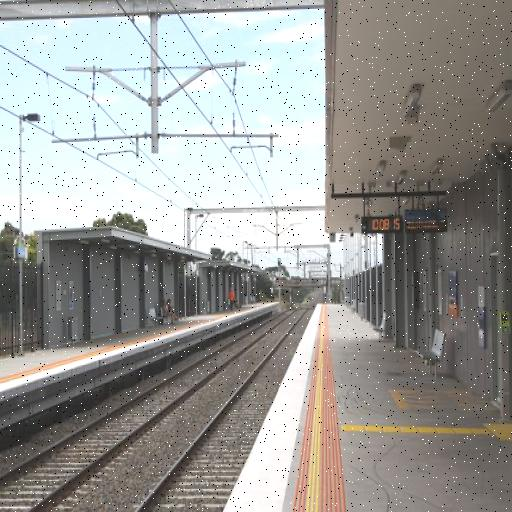platform_edge: (3, 300, 281, 396), (225, 303, 351, 506)
